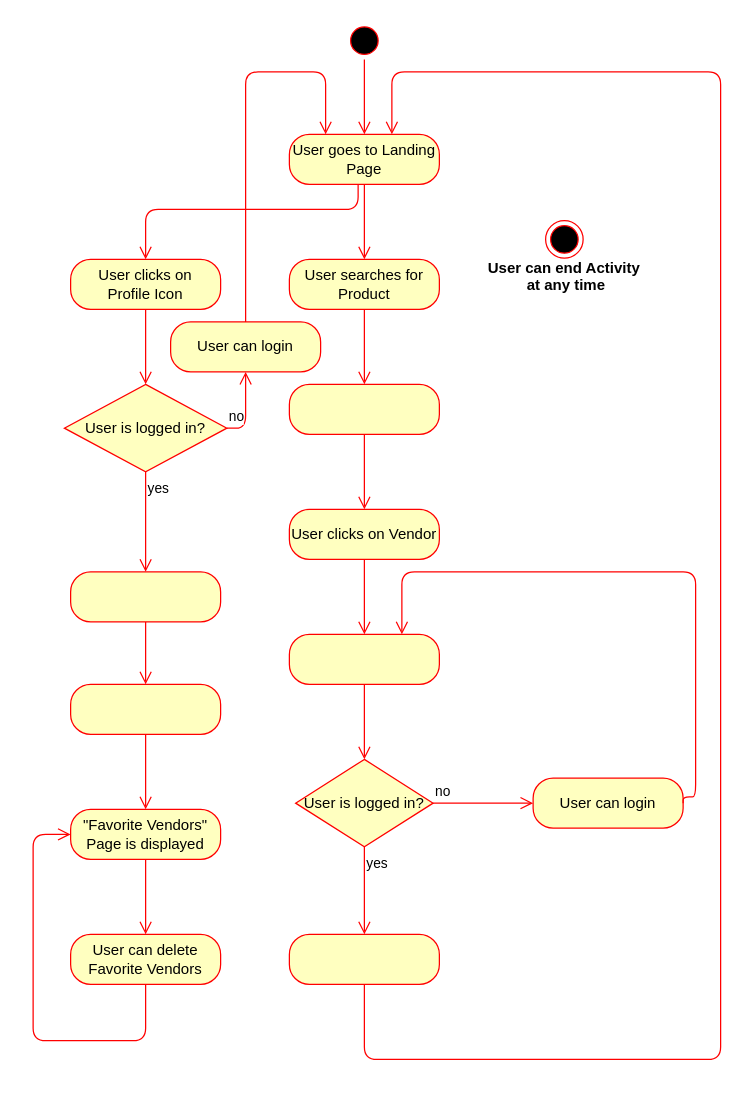
Image size: 755x1094. Some labels were removed from this diagram. The box of each missing label's shape, as (x1, y1, x2, y2) in pixels:
Profile Options are displayed: (69, 571, 221, 622)
User clicks on favorite Button: (288, 633, 439, 684)
User selects "Favorite Vendors": (69, 683, 221, 734)
User selects Product: (288, 383, 439, 434)
Vendor is added to List of Favorite Vendors: (288, 933, 439, 984)
